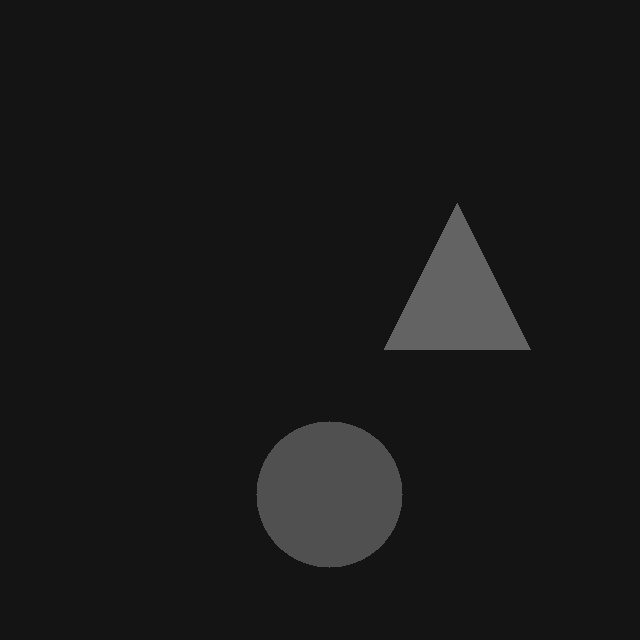circle: (256, 421, 402, 567)
triangle: (384, 203, 530, 349)
